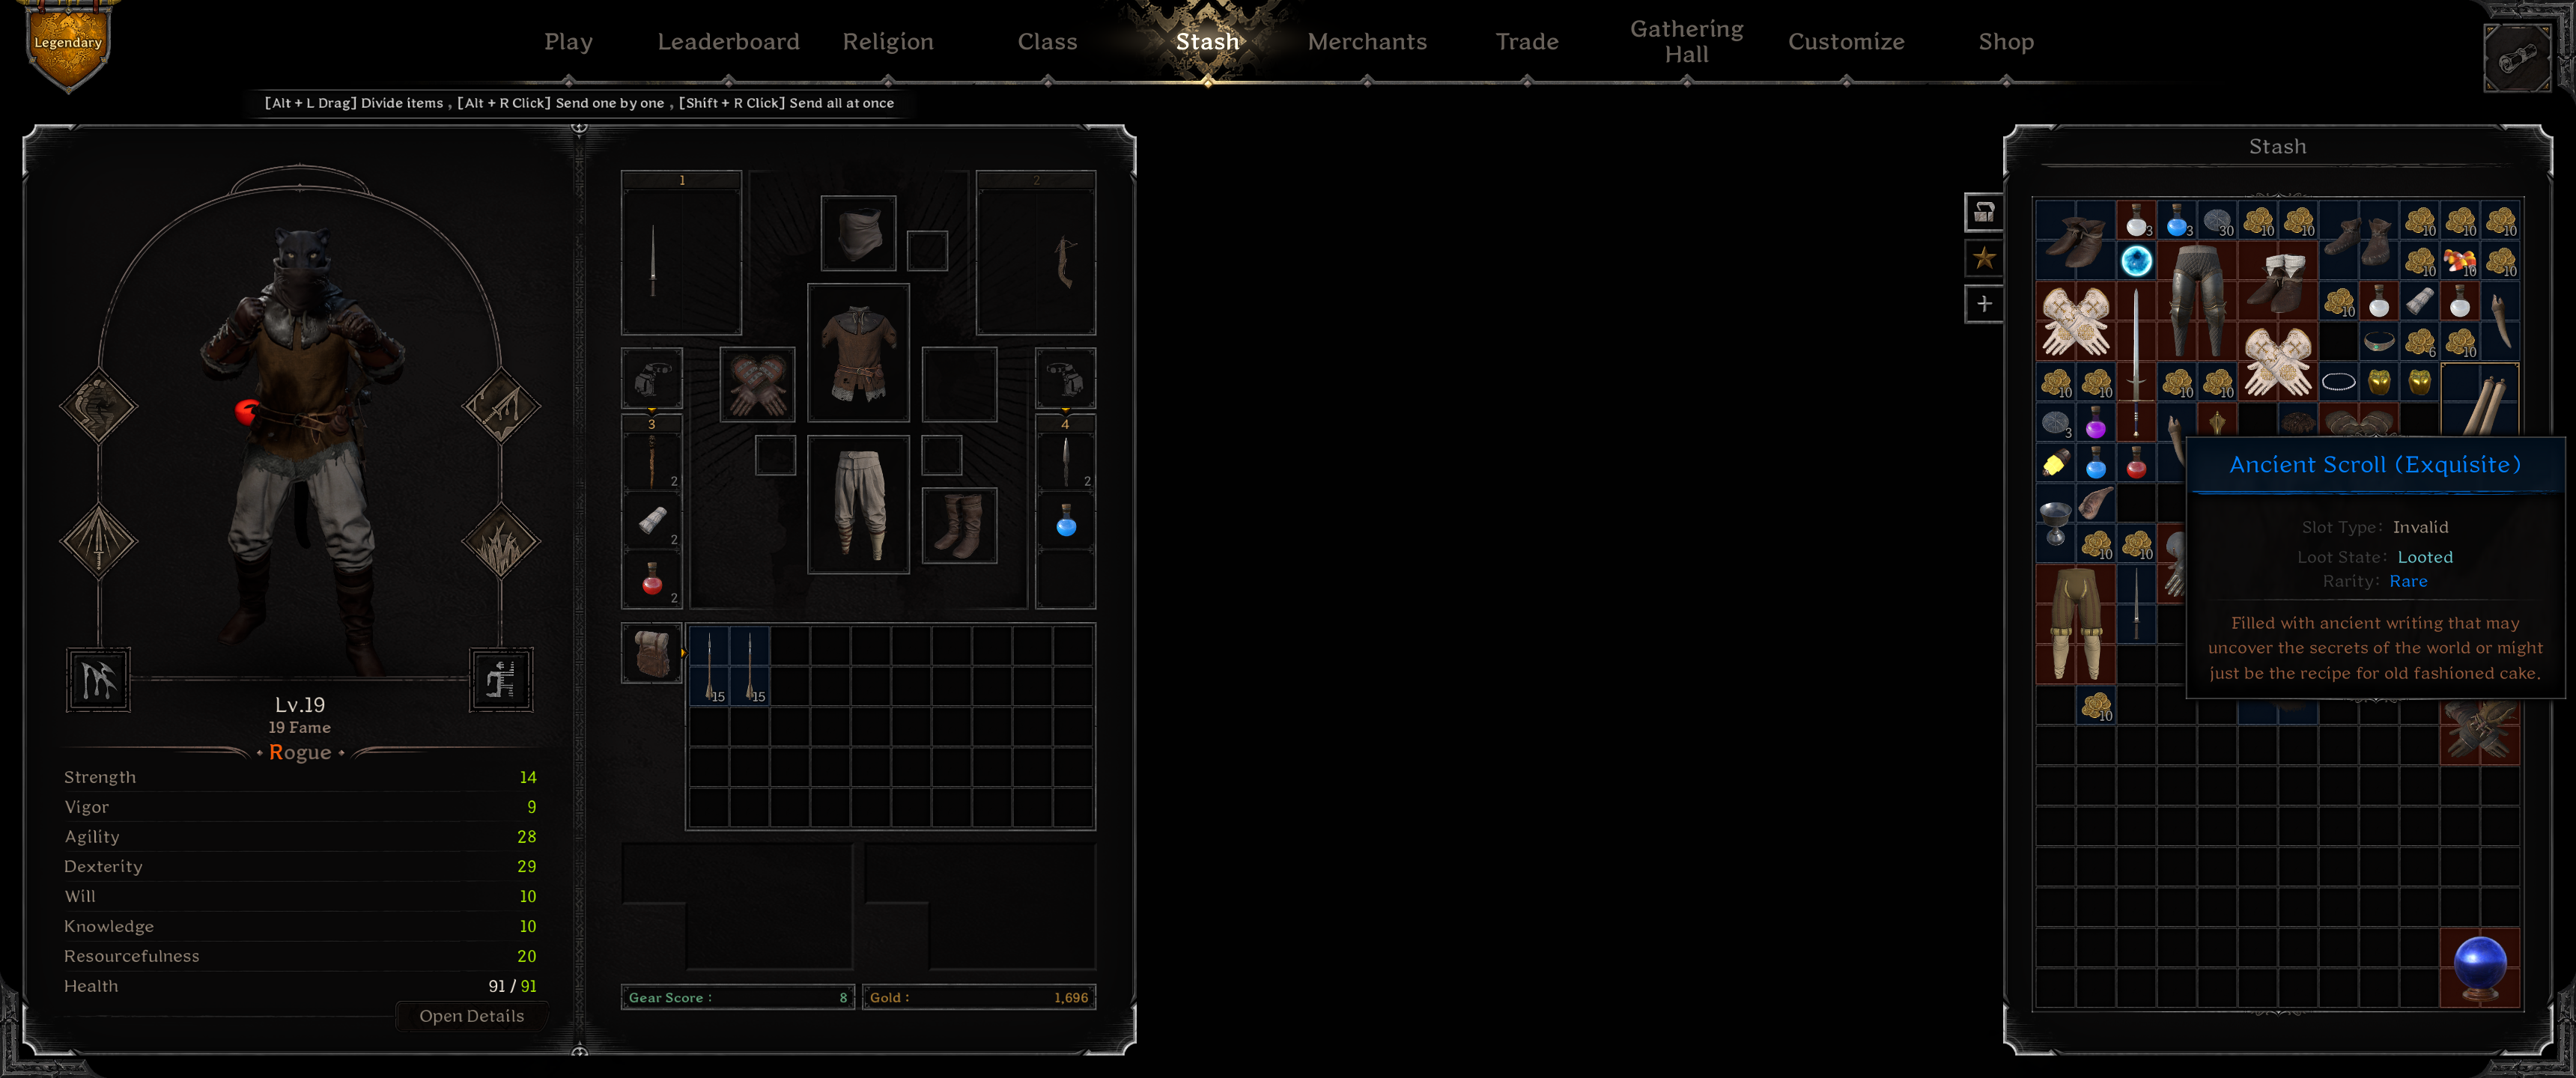Tooltip: (2185, 435, 2566, 698)
